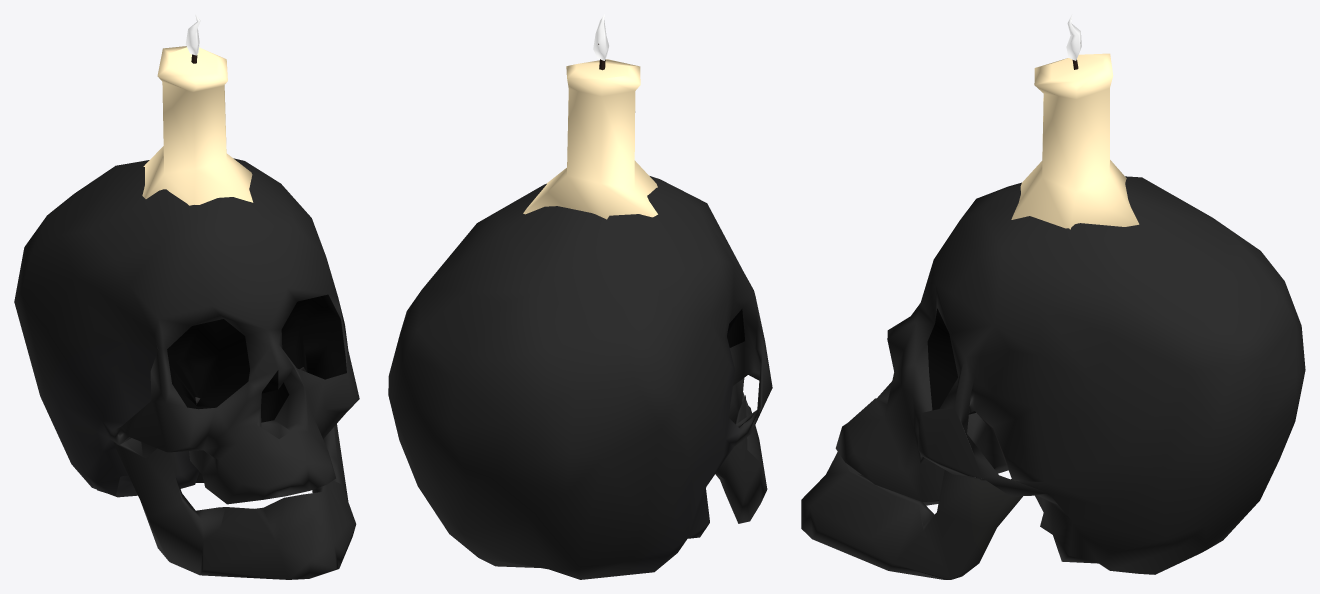
File: CandleSkullShapeB.005.glb
3 renders of one model, left to right at view 1: azimuth 30°, elevation 25°; view 2: azimuth 150°, elevation 25°; view 3: azimuth 270°, elevation 25°, orthographic. The views are drawn at different scales.
Visible parts, largest first — view 1: CandleSkullShapeB.005; view 2: CandleSkullShapeB.005; view 3: CandleSkullShapeB.005.
Part boxes in pixels (x1,y1,x2,y2): CandleSkullShapeB.005: [14, 14, 359, 579]; CandleSkullShapeB.005: [388, 14, 772, 579]; CandleSkullShapeB.005: [801, 14, 1305, 579].
Bounding box in the file's own units: 0.2005 × 0.3649 × 0.3132.
Materials: 2 (2 with a texture image).
